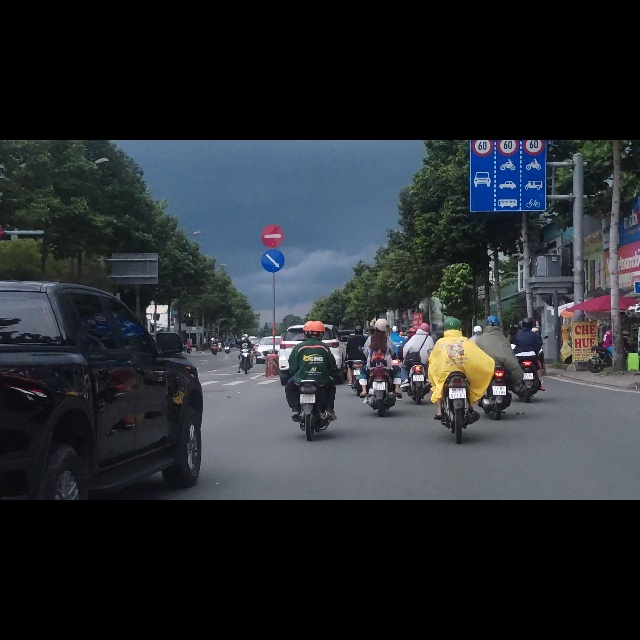bien_cam: (470, 1, 547, 127), (261, 193, 284, 235), (261, 149, 284, 191)
